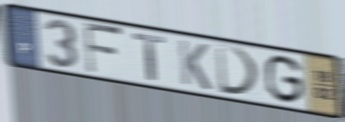3: (42, 17, 79, 70)
D: (213, 42, 262, 99)
F: (81, 20, 127, 77)
G: (265, 54, 306, 107)
K: (176, 37, 213, 93)
T: (132, 32, 167, 84)
